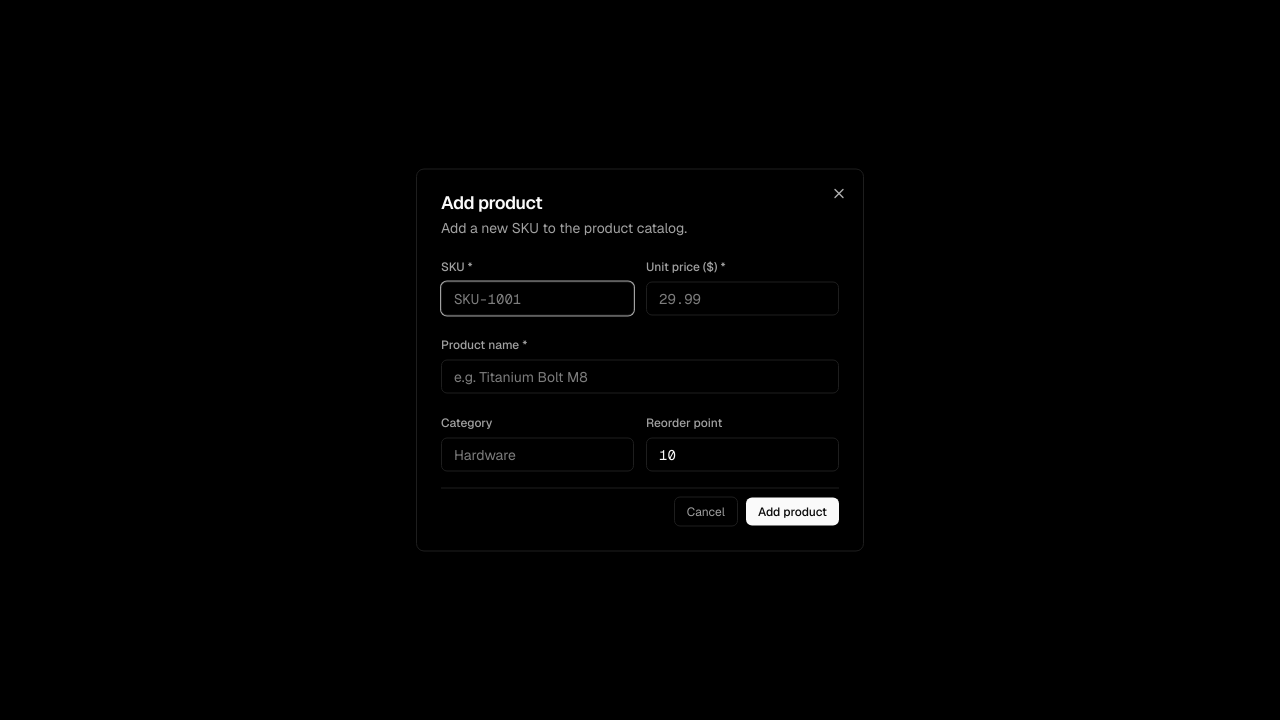
ProductFormDialog › shows validation error for empty product name
Type "SKU-TEST" into the field with placeholder "SKU-1001".
click(538, 298); type("SKU-TEST")  # box [441,282,634,316]
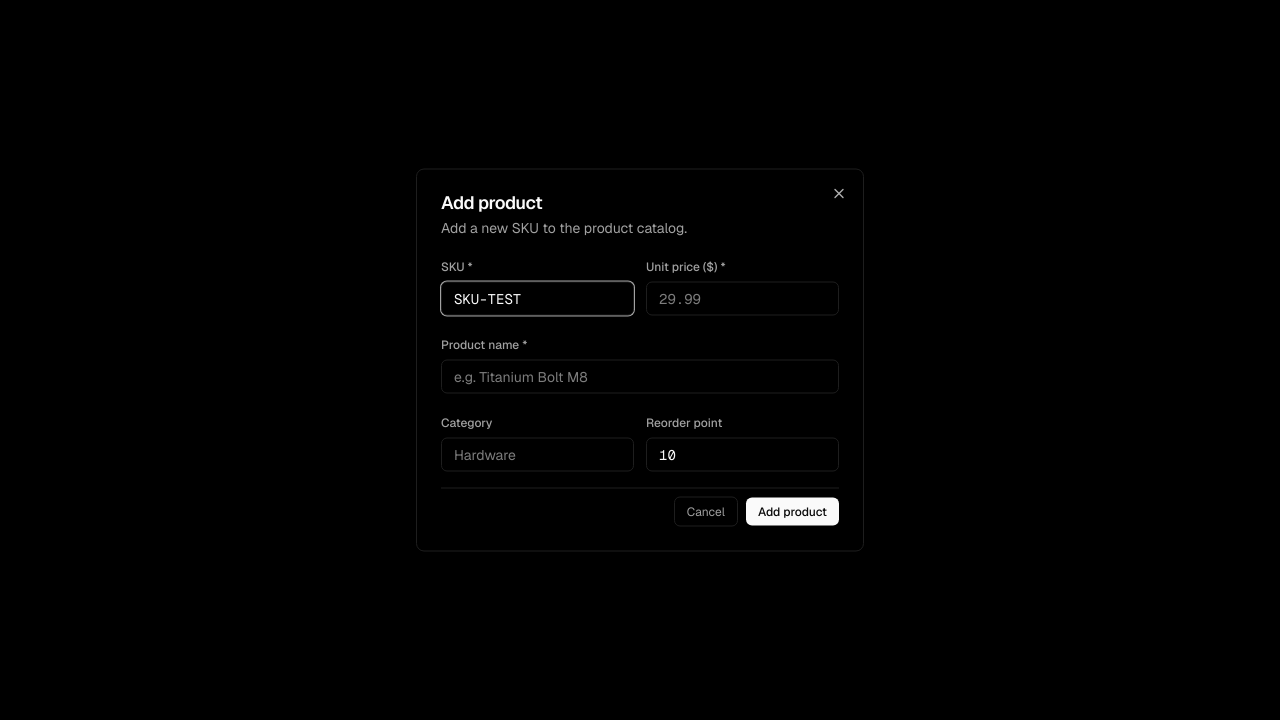
Click the button "Add product".
click(792, 512)  # box [746,498,839,526]
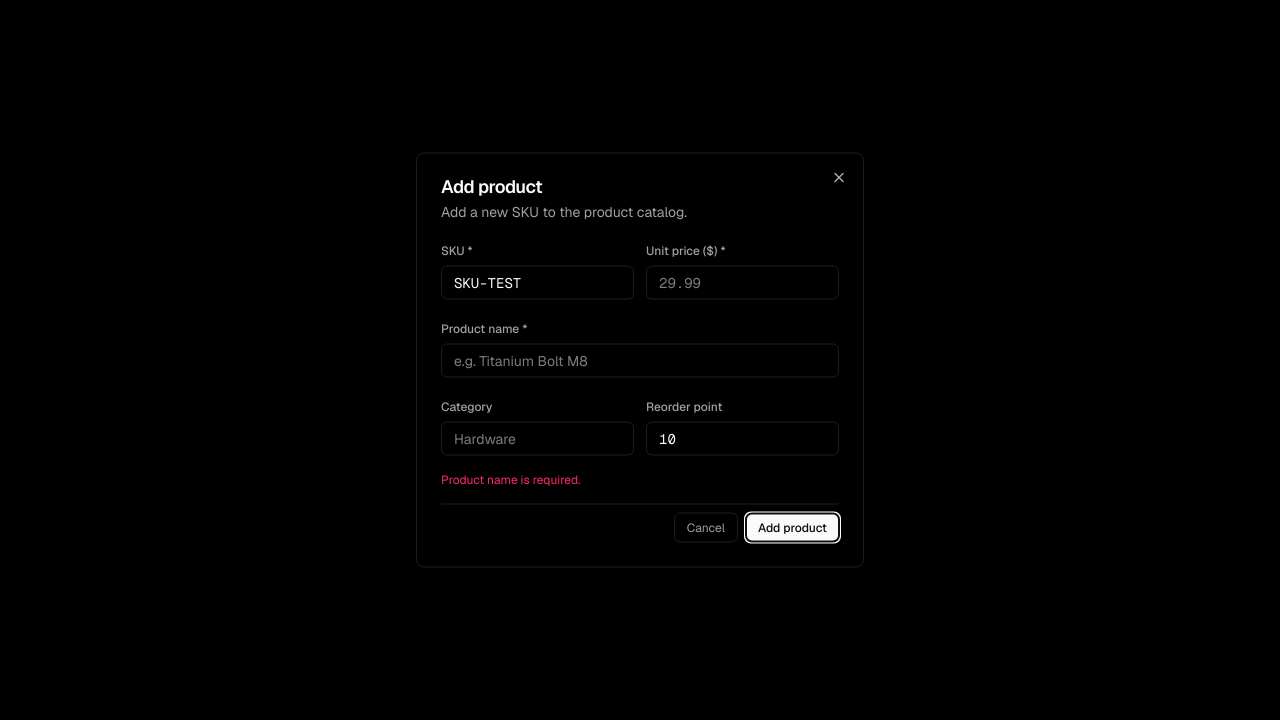
Expected: the text "Product name is required." is shown, [441,472,580,488]
